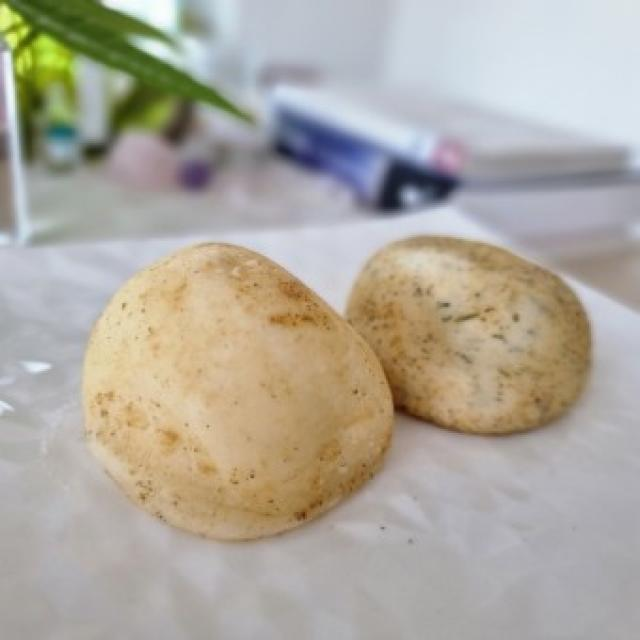potato: (83, 238, 403, 545), (348, 233, 594, 437)
